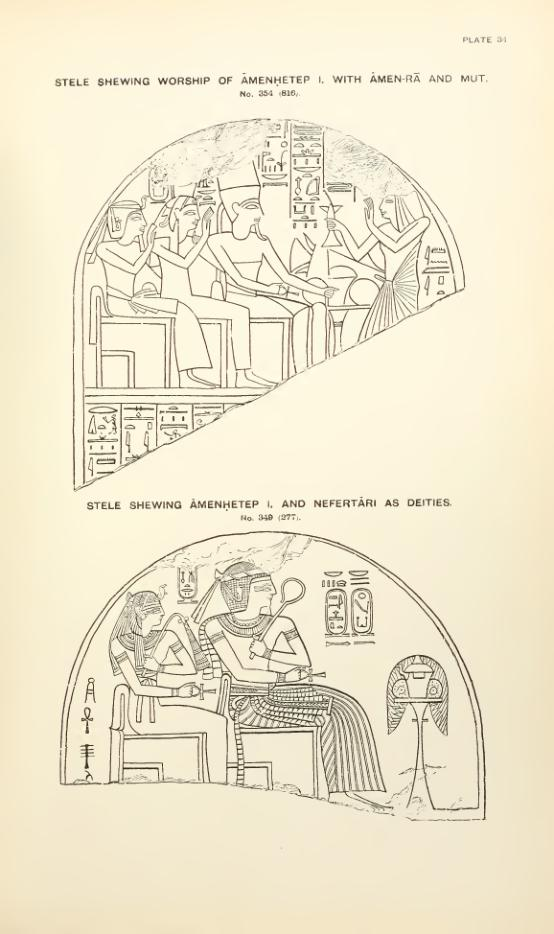circle: (348, 585, 378, 638), (324, 588, 351, 638), (175, 560, 200, 605), (146, 165, 170, 206)
